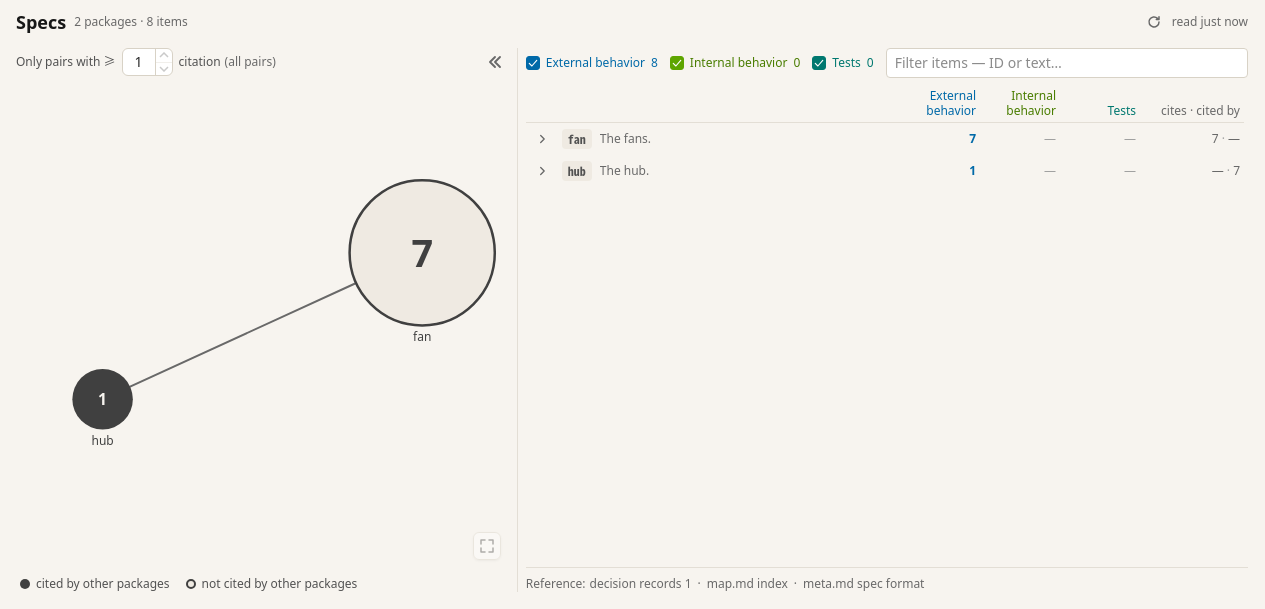
Test case: spec-view-60: the citation summary card › a long direction lists five and counts the rest
What coordinates should you click on to do the following:
click the button with test id "file-toggle-hub"
I would click on:
 (577, 171)
Its box is [562,161,896,181].
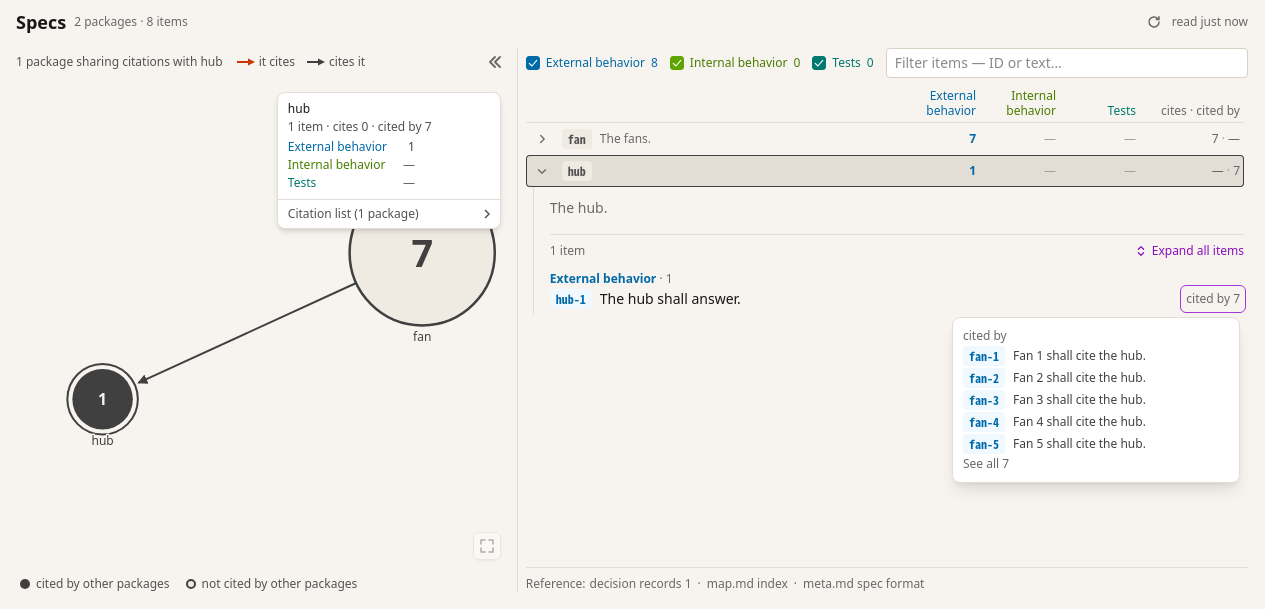
Expected: the element with test id "summary-cited-by" shows "See all 7", [963,455,1009,472]
